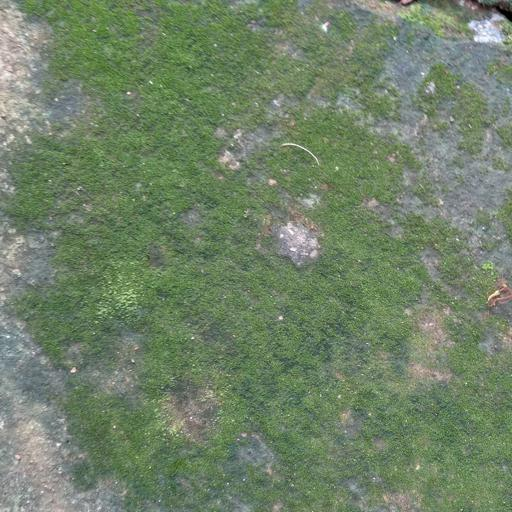algae: (22, 3, 512, 499)
